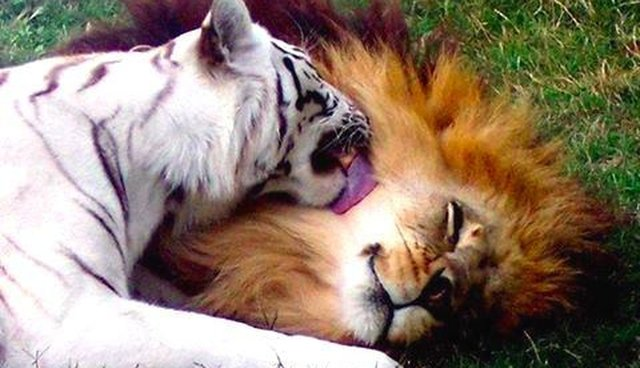lion: (115, 3, 594, 323)
tiger: (1, 2, 380, 365)
